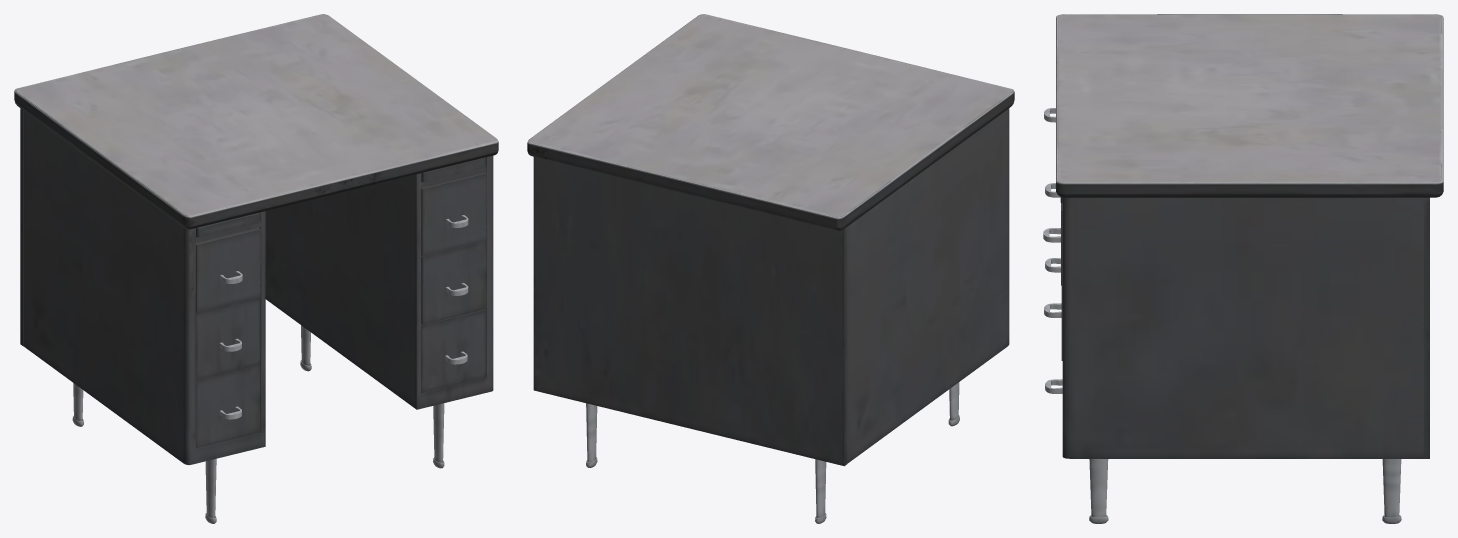
Rendered from ph-metal-office-desk.glb.
3 views of the same model, side by side, from view 1: azimuth 30°, elevation 25°; view 2: azimuth 150°, elevation 25°; view 3: azimuth 270°, elevation 25° (orthographic). The views are drawn at different scales.
Visible parts, largest first — view 1: metal_office_desk_drawer_06; view 2: metal_office_desk_drawer_06; view 3: metal_office_desk_drawer_06.
Part boxes in pixels (box(x1,y1,x2,y2)): metal_office_desk_drawer_06: box(14, 14, 498, 523); metal_office_desk_drawer_06: box(527, 14, 1014, 523); metal_office_desk_drawer_06: box(1043, 14, 1443, 523).
Bounding box in the file's own units: 1 × 1 × 1.
Materials: 1 (1 with a texture image).
